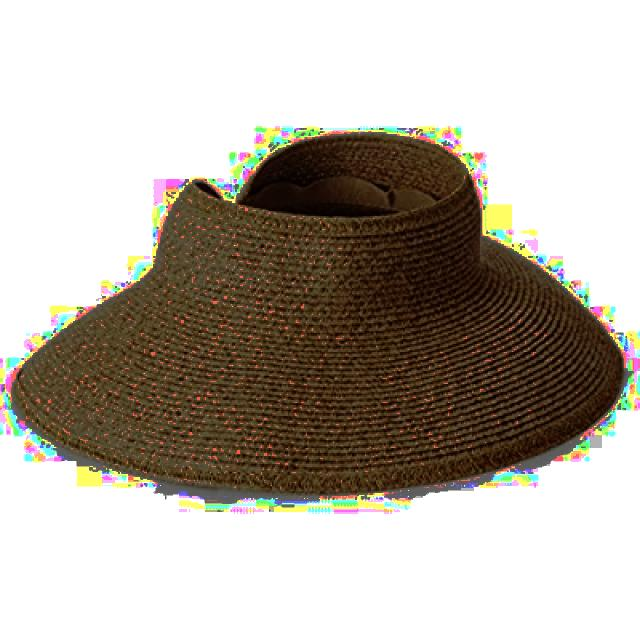TOPI: (3, 123, 635, 499)
